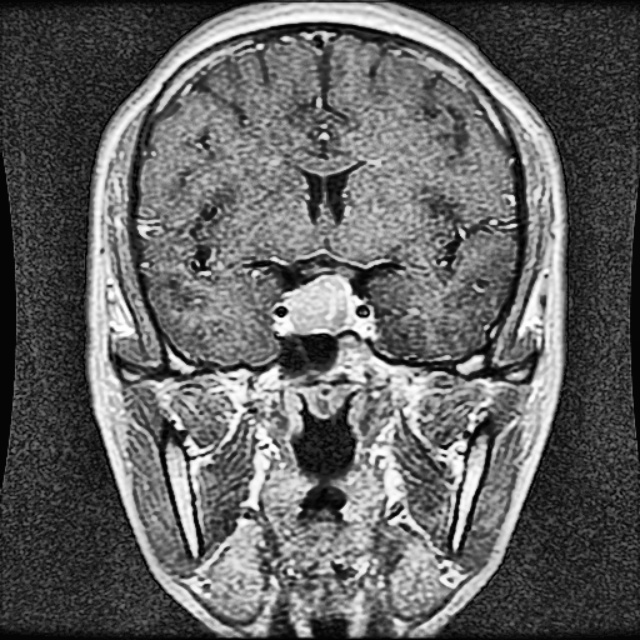Pituitary: (288, 274, 353, 334)
